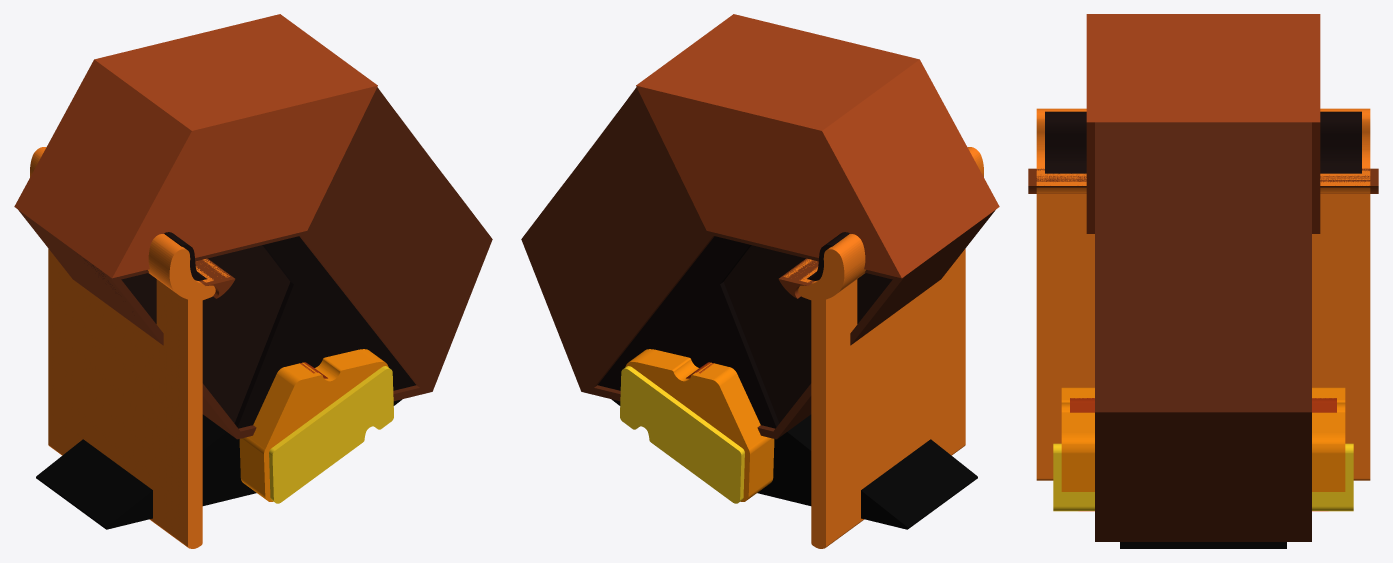
Rendered from U+1FAA4.obj.
3 views of the same model, side by side, from view 1: azimuth 30°, elevation 25°; view 2: azimuth 150°, elevation 25°; view 3: azimuth 270°, elevation 25° (orthographic). The views are drawn at different scales.
Parts seen in each view (by area): view 1: U+1FAA4_layer04_obj00, U+1FAA4_layer10_obj00, U+1FAA4_layer03_obj00, U+1FAA4_layer02_obj00, U+1FAA4_layer01_obj00, U+1FAA4_layer00_obj00, U+1FAA4_layer07_obj00, U+1FAA4_layer08_obj00, U+1FAA4_layer03_obj01, U+1FAA4_layer11_obj00; view 2: U+1FAA4_layer04_obj00, U+1FAA4_layer10_obj00, U+1FAA4_layer03_obj00, U+1FAA4_layer02_obj00, U+1FAA4_layer01_obj00, U+1FAA4_layer00_obj00, U+1FAA4_layer07_obj00, U+1FAA4_layer08_obj00, U+1FAA4_layer03_obj01, U+1FAA4_layer11_obj00; view 3: U+1FAA4_layer03_obj00, U+1FAA4_layer10_obj00, U+1FAA4_layer04_obj00, U+1FAA4_layer07_obj00, U+1FAA4_layer09_obj00, U+1FAA4_layer08_obj00, U+1FAA4_layer11_obj00, U+1FAA4_layer00_obj00, U+1FAA4_layer06_obj00.
Boxes of the visible parts, <box> form: U+1FAA4_layer04_obj00: <box>14,14,377,278</box>; U+1FAA4_layer10_obj00: <box>30,147,229,548</box>; U+1FAA4_layer03_obj00: <box>306,87,492,391</box>; U+1FAA4_layer02_obj00: <box>234,236,415,428</box>; U+1FAA4_layer01_obj00: <box>83,245,290,423</box>; U+1FAA4_layer00_obj00: <box>36,399,402,529</box>; U+1FAA4_layer07_obj00: <box>239,349,388,501</box>; U+1FAA4_layer08_obj00: <box>269,366,393,503</box>; U+1FAA4_layer03_obj01: <box>18,210,432,439</box>; U+1FAA4_layer11_obj00: <box>195,258,235,298</box>; U+1FAA4_layer04_obj00: <box>636,14,999,278</box>; U+1FAA4_layer10_obj00: <box>783,147,983,548</box>; U+1FAA4_layer03_obj00: <box>521,87,707,391</box>; U+1FAA4_layer02_obj00: <box>598,236,779,428</box>; U+1FAA4_layer01_obj00: <box>723,245,892,423</box>; U+1FAA4_layer00_obj00: <box>611,399,977,529</box>; U+1FAA4_layer07_obj00: <box>625,349,774,501</box>; U+1FAA4_layer08_obj00: <box>620,366,744,503</box>; U+1FAA4_layer03_obj01: <box>581,210,995,439</box>; U+1FAA4_layer11_obj00: <box>778,258,818,298</box>; U+1FAA4_layer03_obj00: <box>1095,122,1311,541</box>; U+1FAA4_layer10_obj00: <box>1036,108,1370,480</box>; U+1FAA4_layer04_obj00: <box>1086,14,1320,233</box>; U+1FAA4_layer07_obj00: <box>1061,387,1345,491</box>; U+1FAA4_layer09_obj00: <box>1045,111,1361,173</box>; U+1FAA4_layer08_obj00: <box>1053,443,1353,511</box>; U+1FAA4_layer11_obj00: <box>1028,168,1378,193</box>; U+1FAA4_layer00_obj00: <box>1120,542,1286,548</box>; U+1FAA4_layer06_obj00: <box>1070,398,1336,412</box>.
Bounding box in the file's own units: 0.3175 × 0.3143 × 0.21.
